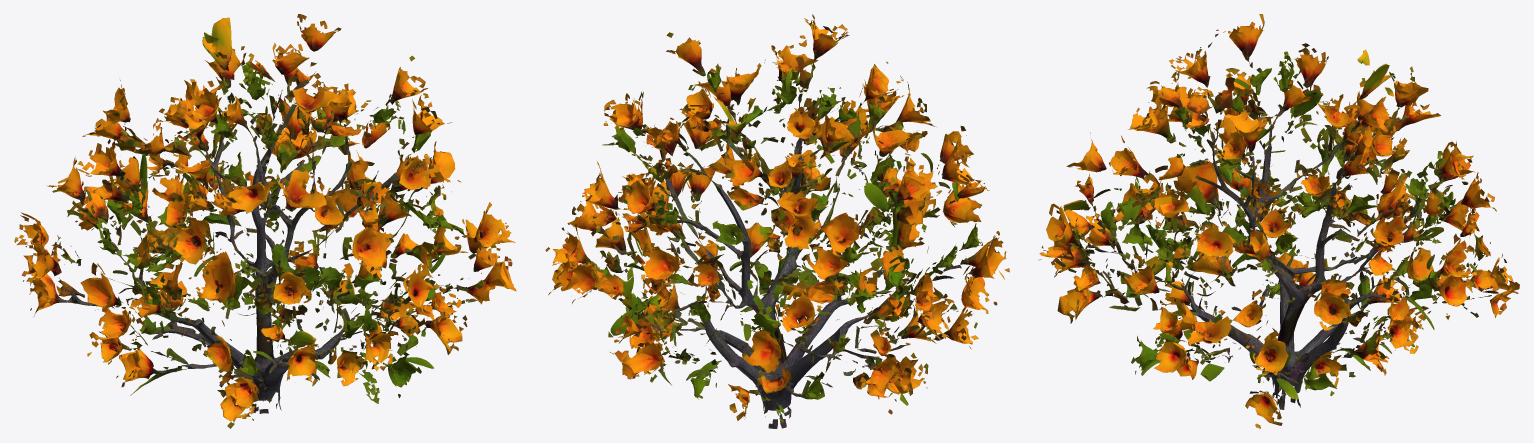
The model's file is raw_meshy_model.glb.
3 renders of one model, left to right at view 1: azimuth 30°, elevation 25°; view 2: azimuth 150°, elevation 25°; view 3: azimuth 270°, elevation 25°, orthographic. The views are drawn at different scales.
Bounding box in the file's own units: 1.78 × 1.57 × 1.89.
Materials: 1 (1 with a texture image).
